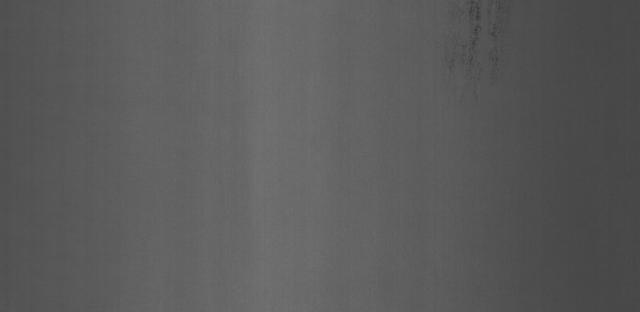inclusion: (434, 0, 528, 96)
